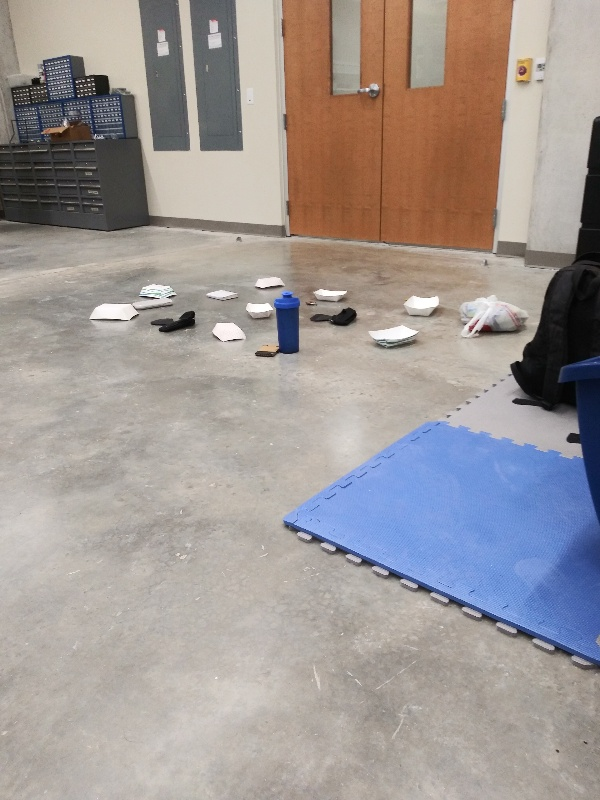plate: (366, 321, 424, 352), (400, 290, 448, 320), (86, 299, 138, 325), (210, 319, 250, 343), (136, 280, 179, 299), (245, 296, 277, 321), (311, 283, 349, 301), (251, 273, 286, 287)
